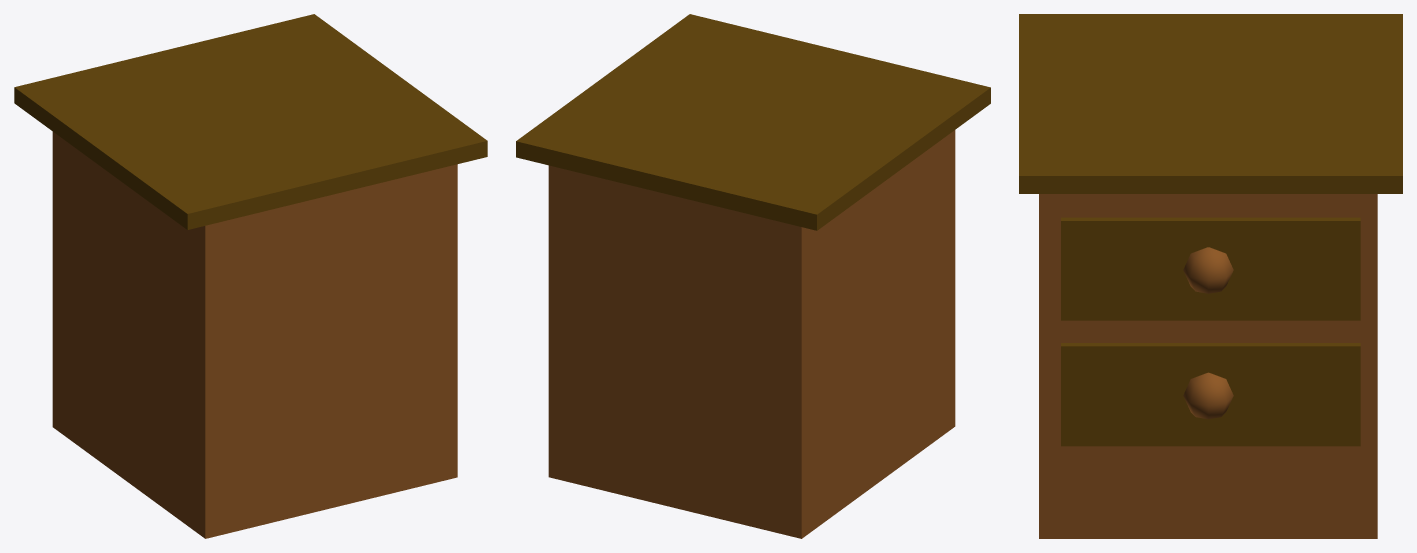
Rendered from mesita.FBX.
3 views of the same model, side by side, from view 1: azimuth 30°, elevation 25°; view 2: azimuth 150°, elevation 25°; view 3: azimuth 270°, elevation 25° (orthographic). The views are drawn at different scales.
Visible parts, largest first — view 1: Box001, Box002; view 2: Box001, Box002; view 3: Box002, Box001, Box003, Box004, Sphere001, Sphere002.
Boxes of the visible parts, x1,y1,x2,y2 form: Box001: [52, 132, 457, 538]; Box002: [14, 14, 487, 229]; Box001: [548, 130, 955, 538]; Box002: [516, 14, 990, 230]; Box002: [1019, 14, 1402, 193]; Box001: [1039, 194, 1377, 538]; Box003: [1061, 217, 1360, 320]; Box004: [1061, 343, 1360, 446]; Sphere001: [1183, 247, 1233, 293]; Sphere002: [1183, 372, 1233, 419].
Bounding box in the file's own units: 15.91 × 16.88 × 15.69.
Materials: 2 (2 with a texture image).
